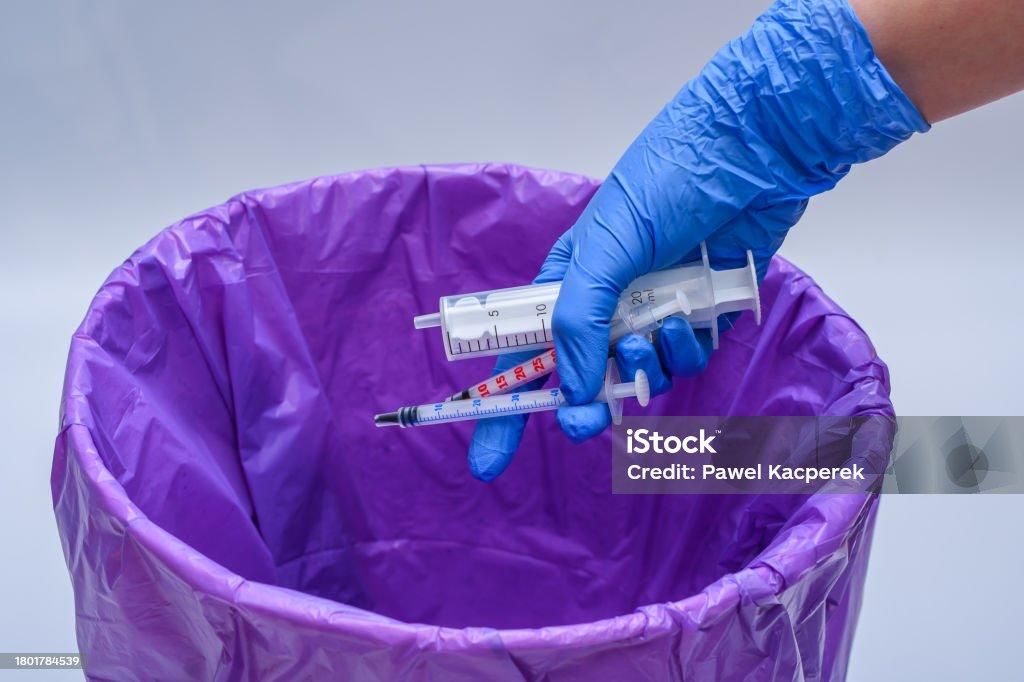Glove: (538, 0, 927, 441)
Syringe: (610, 243, 759, 346), (374, 388, 565, 426), (449, 348, 554, 399)
